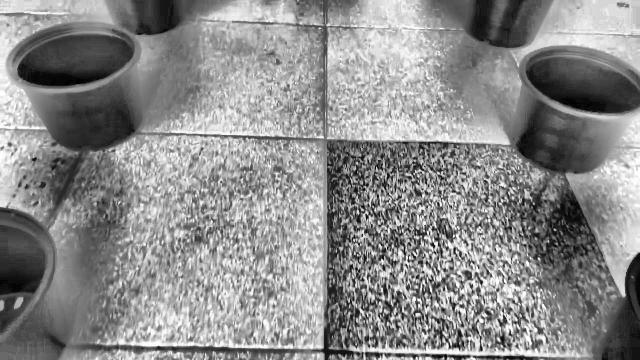pot: (4, 22, 146, 151), (512, 46, 640, 174)
